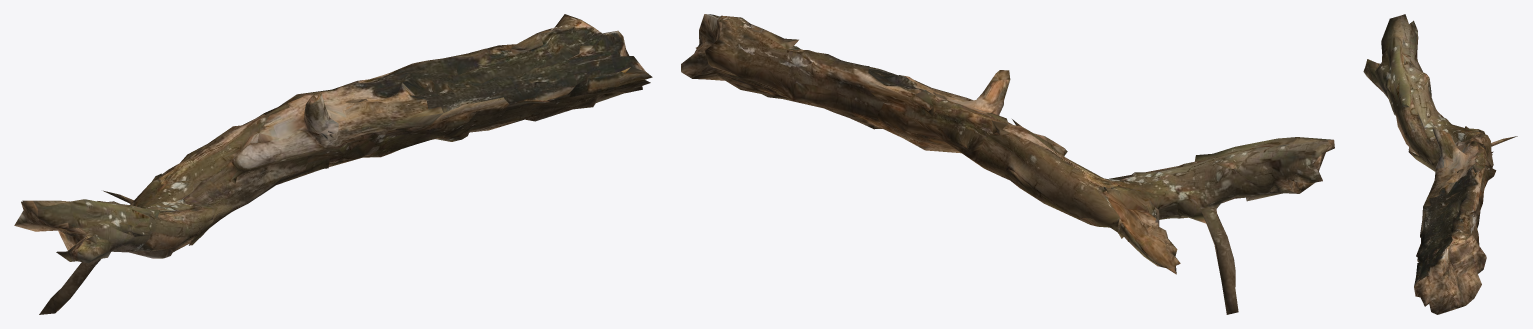
The model's file is log_fallen_01.glb.
The picture shows the model from 3 angles, left to right: view 1: azimuth 30°, elevation 25°; view 2: azimuth 150°, elevation 25°; view 3: azimuth 270°, elevation 25°; orthographic projection. The views are drawn at different scales.
Visible parts, largest first — view 1: log_fallen_01; view 2: log_fallen_01; view 3: log_fallen_01.
Part boxes in pixels (box(x1,y1,x2,y2)): log_fallen_01: box(14, 14, 652, 314); log_fallen_01: box(681, 14, 1334, 314); log_fallen_01: box(1363, 14, 1517, 314).
Bounding box in the file's own units: 4.05 × 1.05 × 1.05.
1 material, 1 textured.
